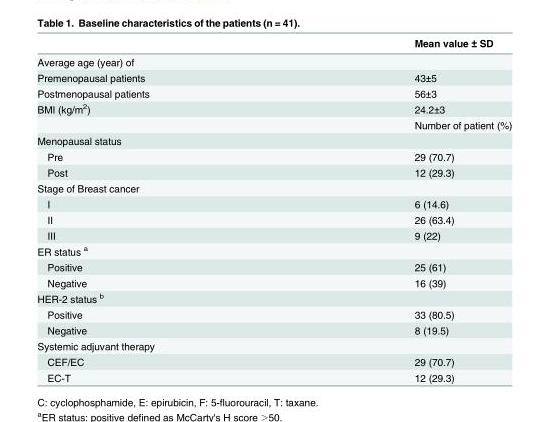table: (36, 36, 511, 383)
table column: (36, 36, 283, 383), (283, 36, 511, 383)
table column header: (36, 36, 511, 52)
table projected row header: (36, 52, 511, 69), (36, 289, 511, 306), (36, 132, 511, 148), (36, 242, 511, 258), (36, 337, 511, 353), (36, 180, 511, 195)
table row: (36, 52, 511, 69), (36, 289, 511, 306), (36, 36, 511, 52), (36, 69, 511, 85), (36, 100, 511, 116), (36, 116, 511, 132), (36, 132, 511, 148), (36, 148, 511, 164), (36, 164, 511, 180), (36, 195, 511, 211), (36, 211, 511, 227), (36, 242, 511, 258), (36, 258, 511, 274), (36, 306, 511, 322), (36, 337, 511, 353), (36, 353, 511, 369), (36, 85, 511, 100), (36, 180, 511, 195), (36, 227, 511, 242), (36, 274, 511, 289), (36, 322, 511, 337), (36, 369, 511, 383)
table spanning cell: (36, 100, 283, 132)
